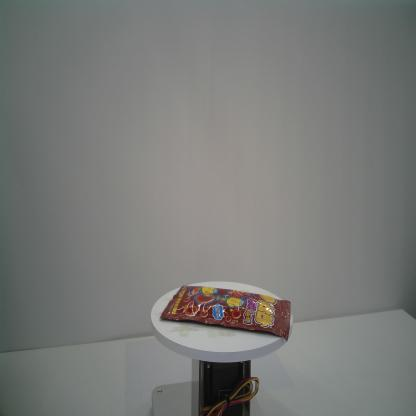Candy: (159, 285, 291, 342)
